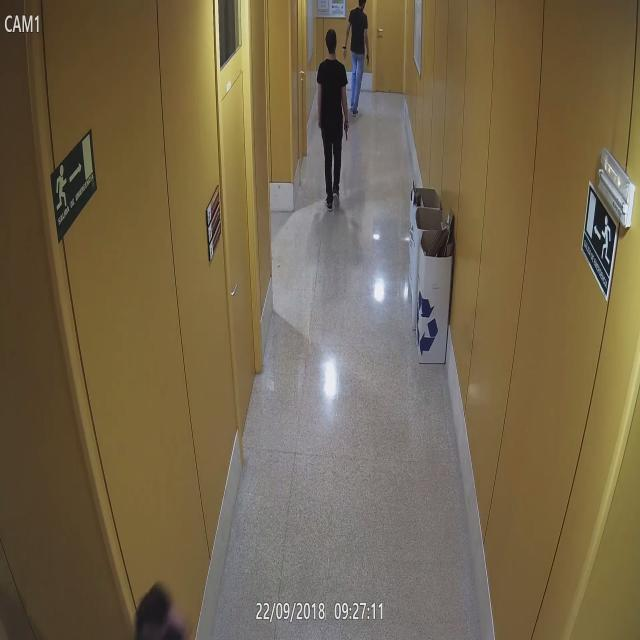pistol: (342, 121, 351, 140), (363, 51, 372, 67)
